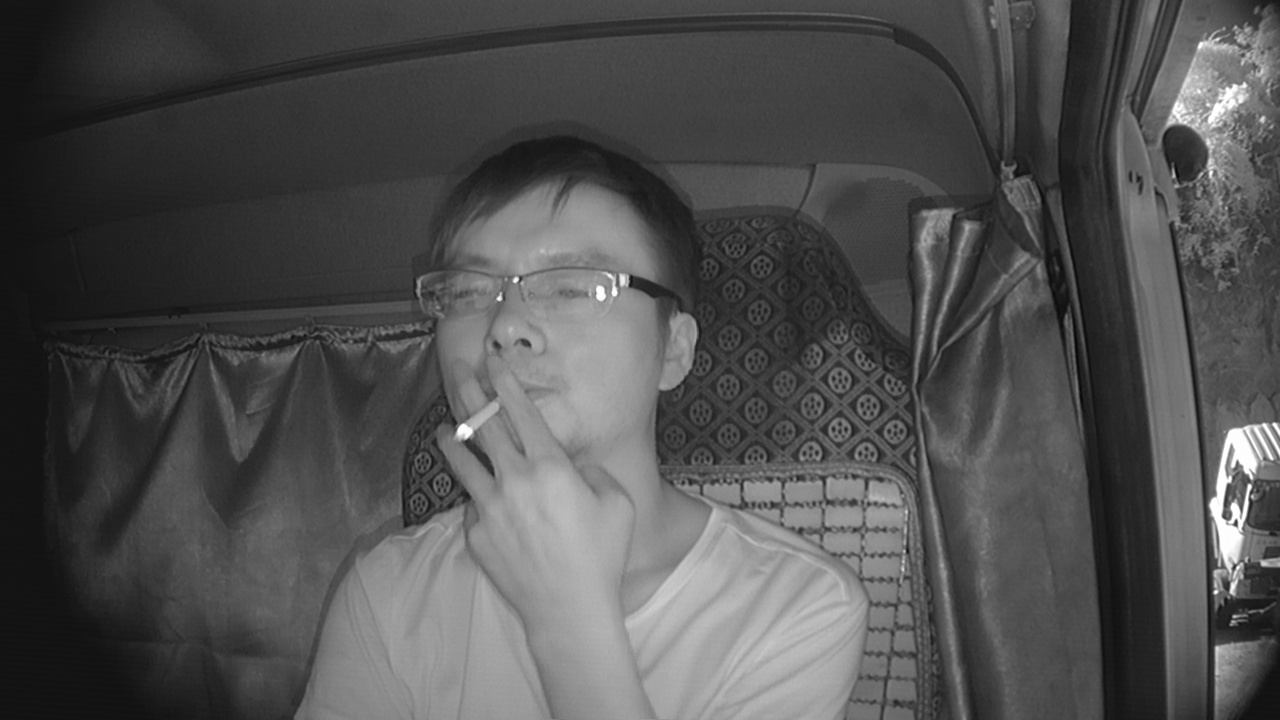hand: (449, 386, 625, 599)
